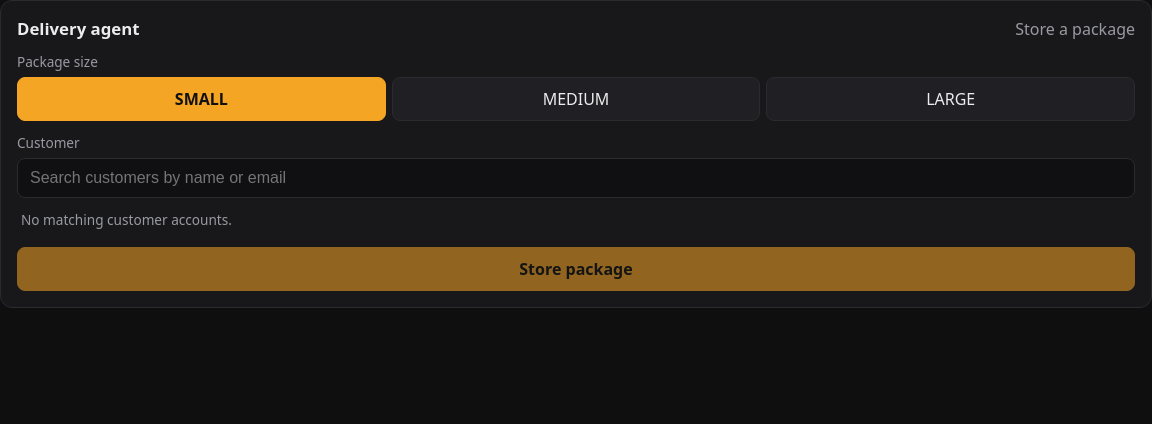
it: AgentPanel › lets the agent pick a customer from the masked directory and store; the code is emailed, never shown
The image size is (1152, 424).
Expected: the button "Store package" is disabled, x1=17 y1=247 x2=1135 y2=291
Type "ali" into the field named "Search customers" at (576, 178), box x1=17 y1=158 x2=1135 y2=198
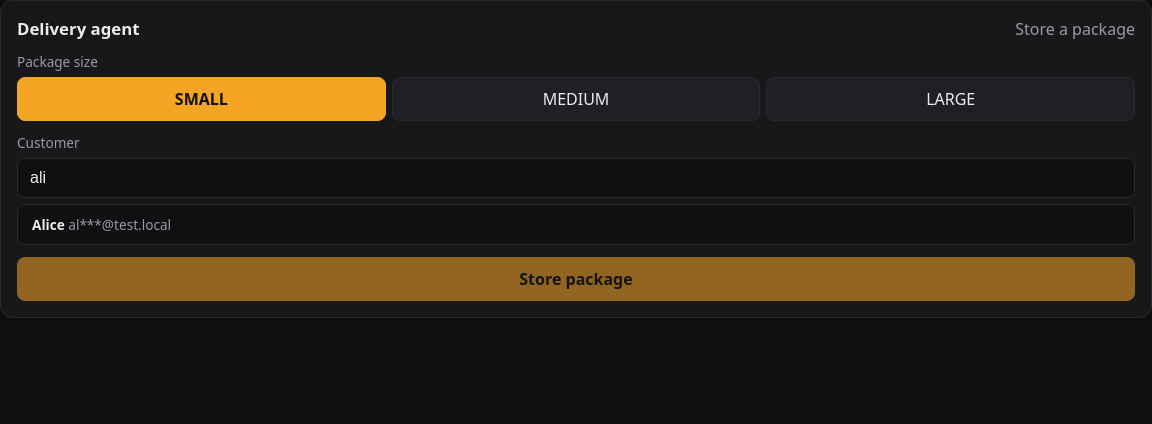
Click the button "Alice al***@test.local" at (48, 224), box x1=17 y1=204 x2=1135 y2=245
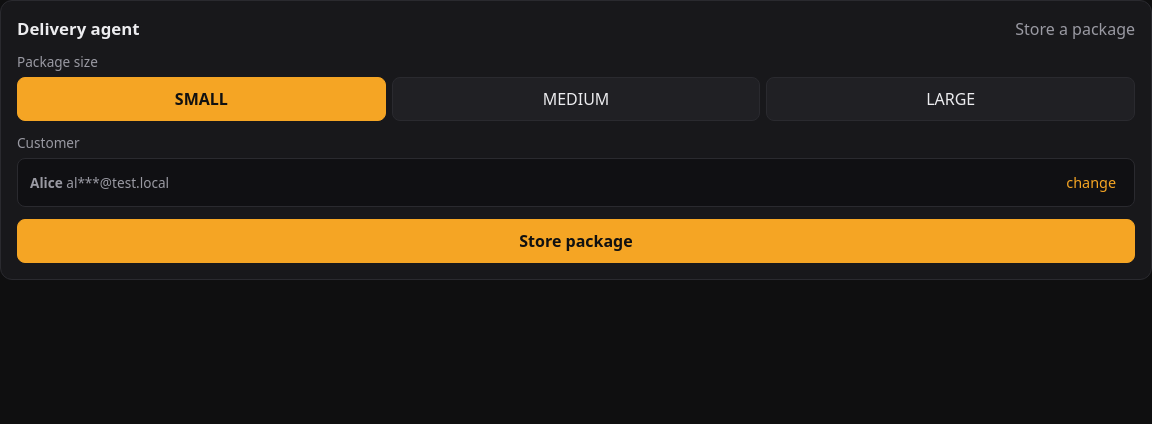
Expected: the element with test id "picked-customer" shows "Alice", x1=30 y1=173 x2=63 y2=192
Click the button "Store package" at (576, 241), box x1=17 y1=219 x2=1135 y2=263
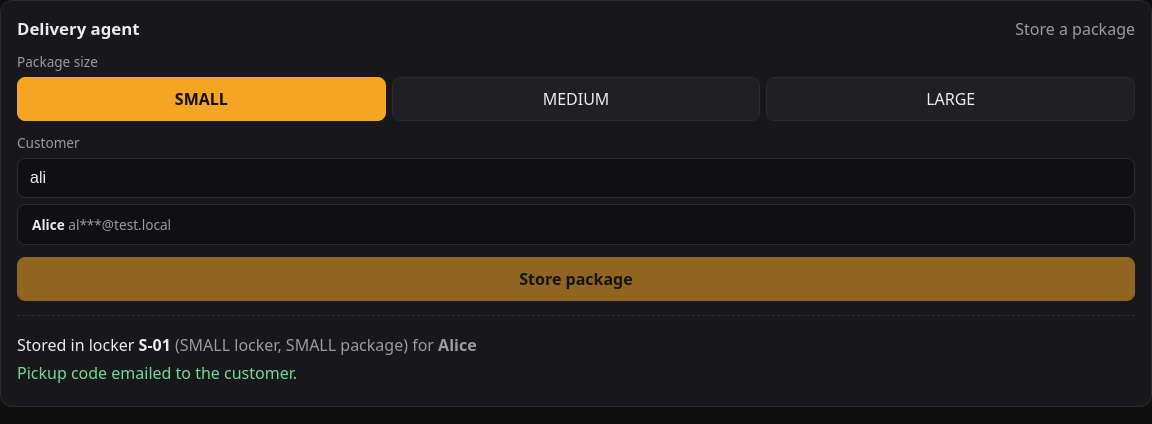
Expected: the text "Pickup code emailed to the customer." is shown, x1=17 y1=362 x2=297 y2=384
